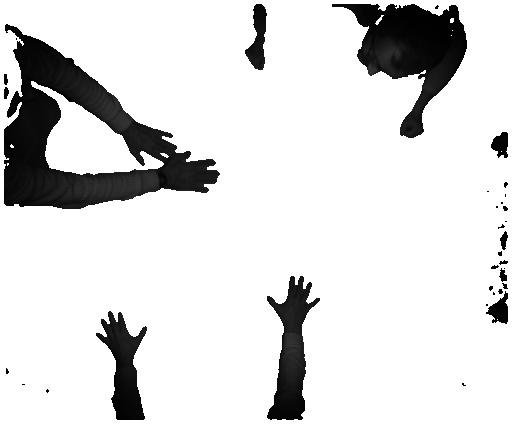fist: (240, 42, 271, 71), (400, 113, 423, 143)
hand: (97, 306, 151, 364), (266, 274, 319, 332), (163, 153, 221, 199), (128, 117, 178, 167)
